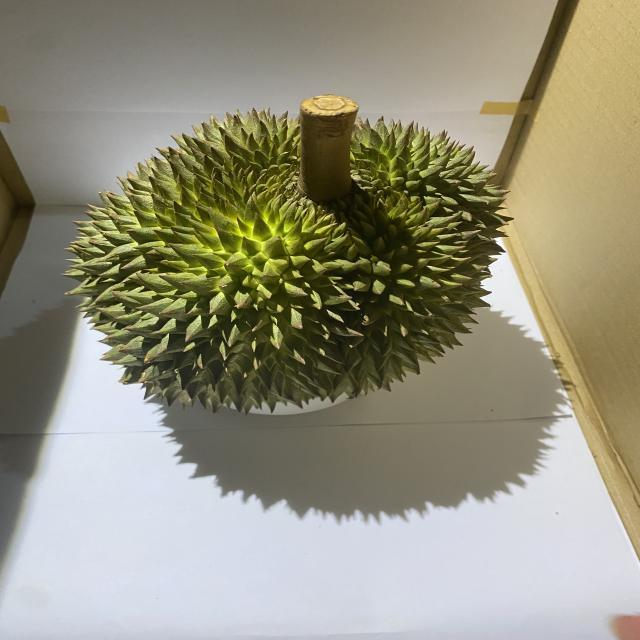immature: (58, 104, 518, 418)
